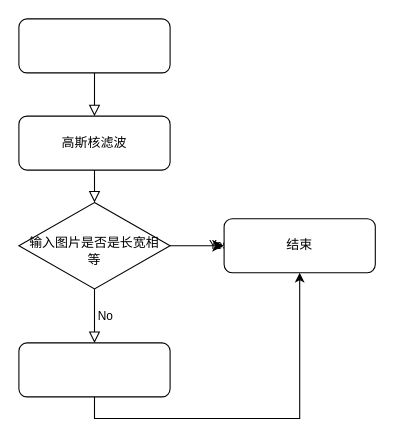
This 394x446 diagram has some shape labels left out. Each missing label, with the centre of its shape:
均值偏移滤波: [94,45]
填充空白形成输入图片，并记录填充部分位置: [94,369]
